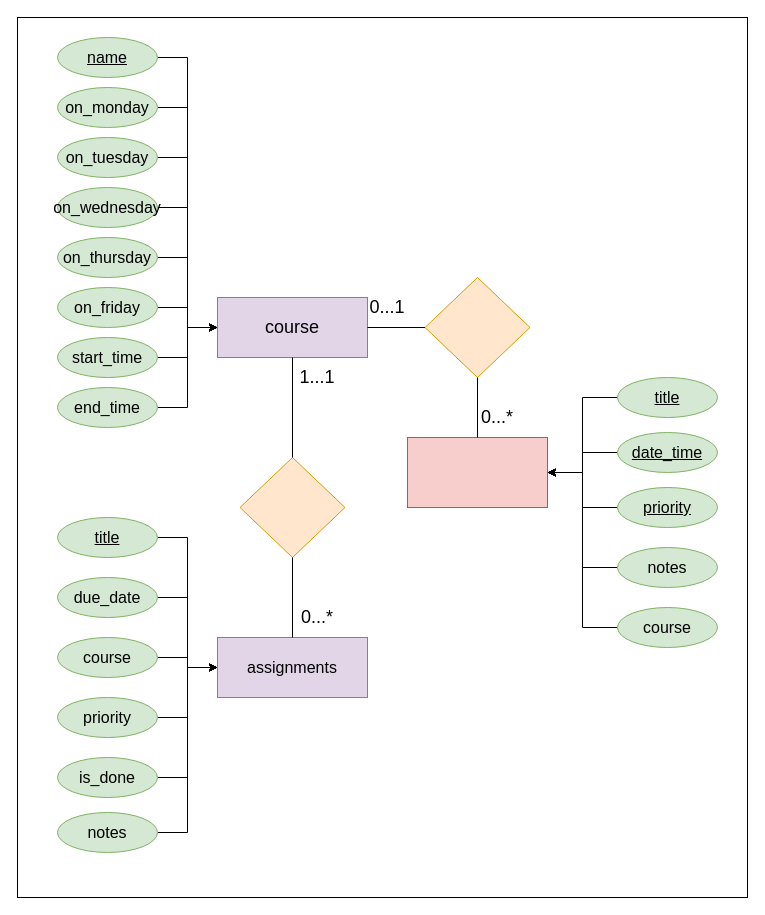
Image size: 765x915. Some labels were removed from this diagram. Each missing label, with the centre of its shape:
"Assigned" belongs at point 292,507.
"meetings" belongs at point 477,472.
"Scheduled" belongs at point 477,327.
